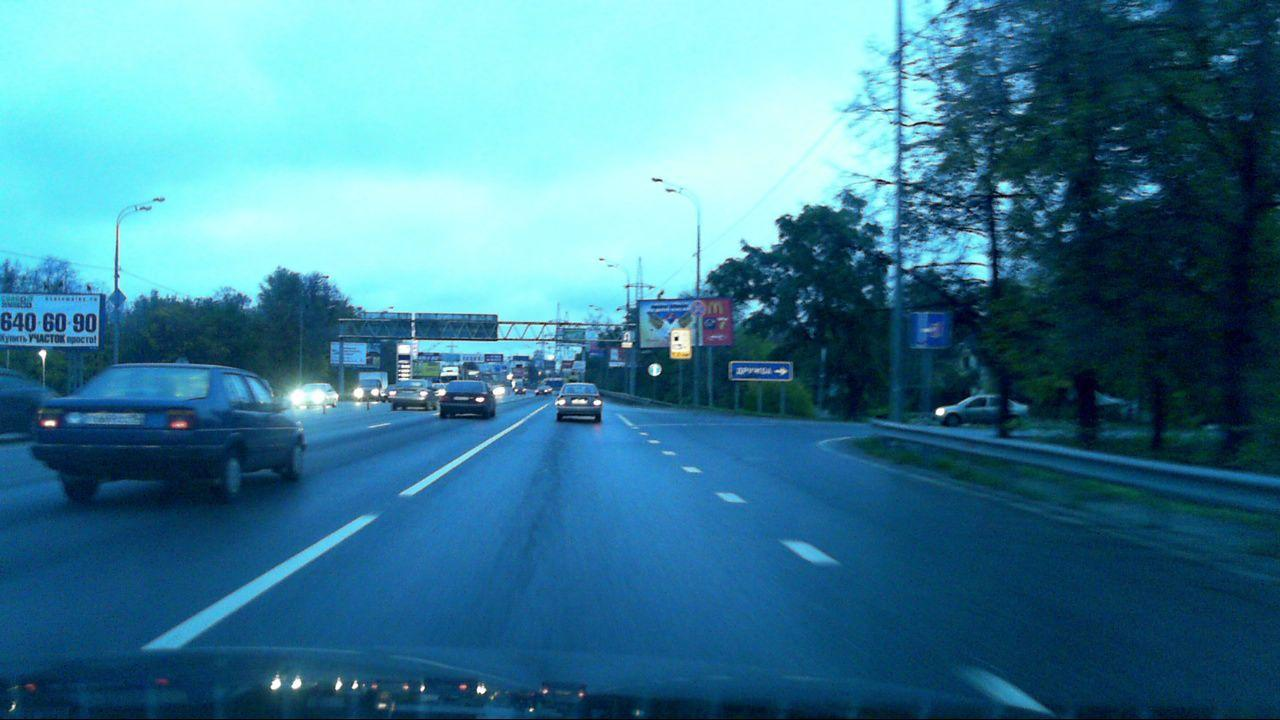3_27: (689, 297, 710, 316)
4_1_1: (649, 363, 663, 376)
6_10_1: (727, 359, 794, 381)
6_3_1: (622, 329, 635, 343)
6_8_2: (908, 311, 950, 348)
